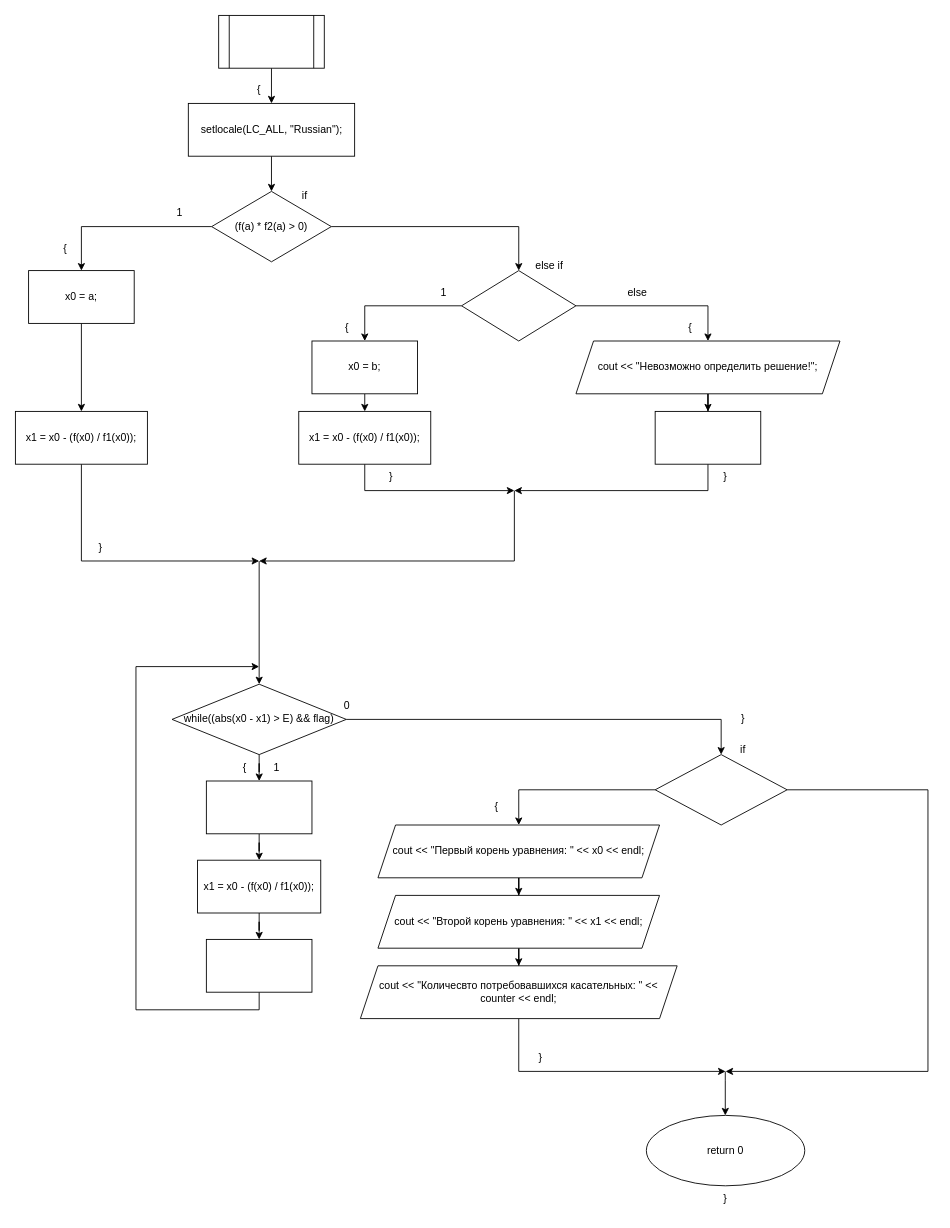
This 950x1228 diagram has some shape labels left out. The centre of each missing label's shape, as x and y in pixels:
(f(b) * f2(b) > 0): the point at 518,305
(flag): the point at 720,789
counter++;: the point at 258,965
flag = 0;: the point at 707,437
int main(): the point at 271,41
x0 = x1;: the point at 258,807
